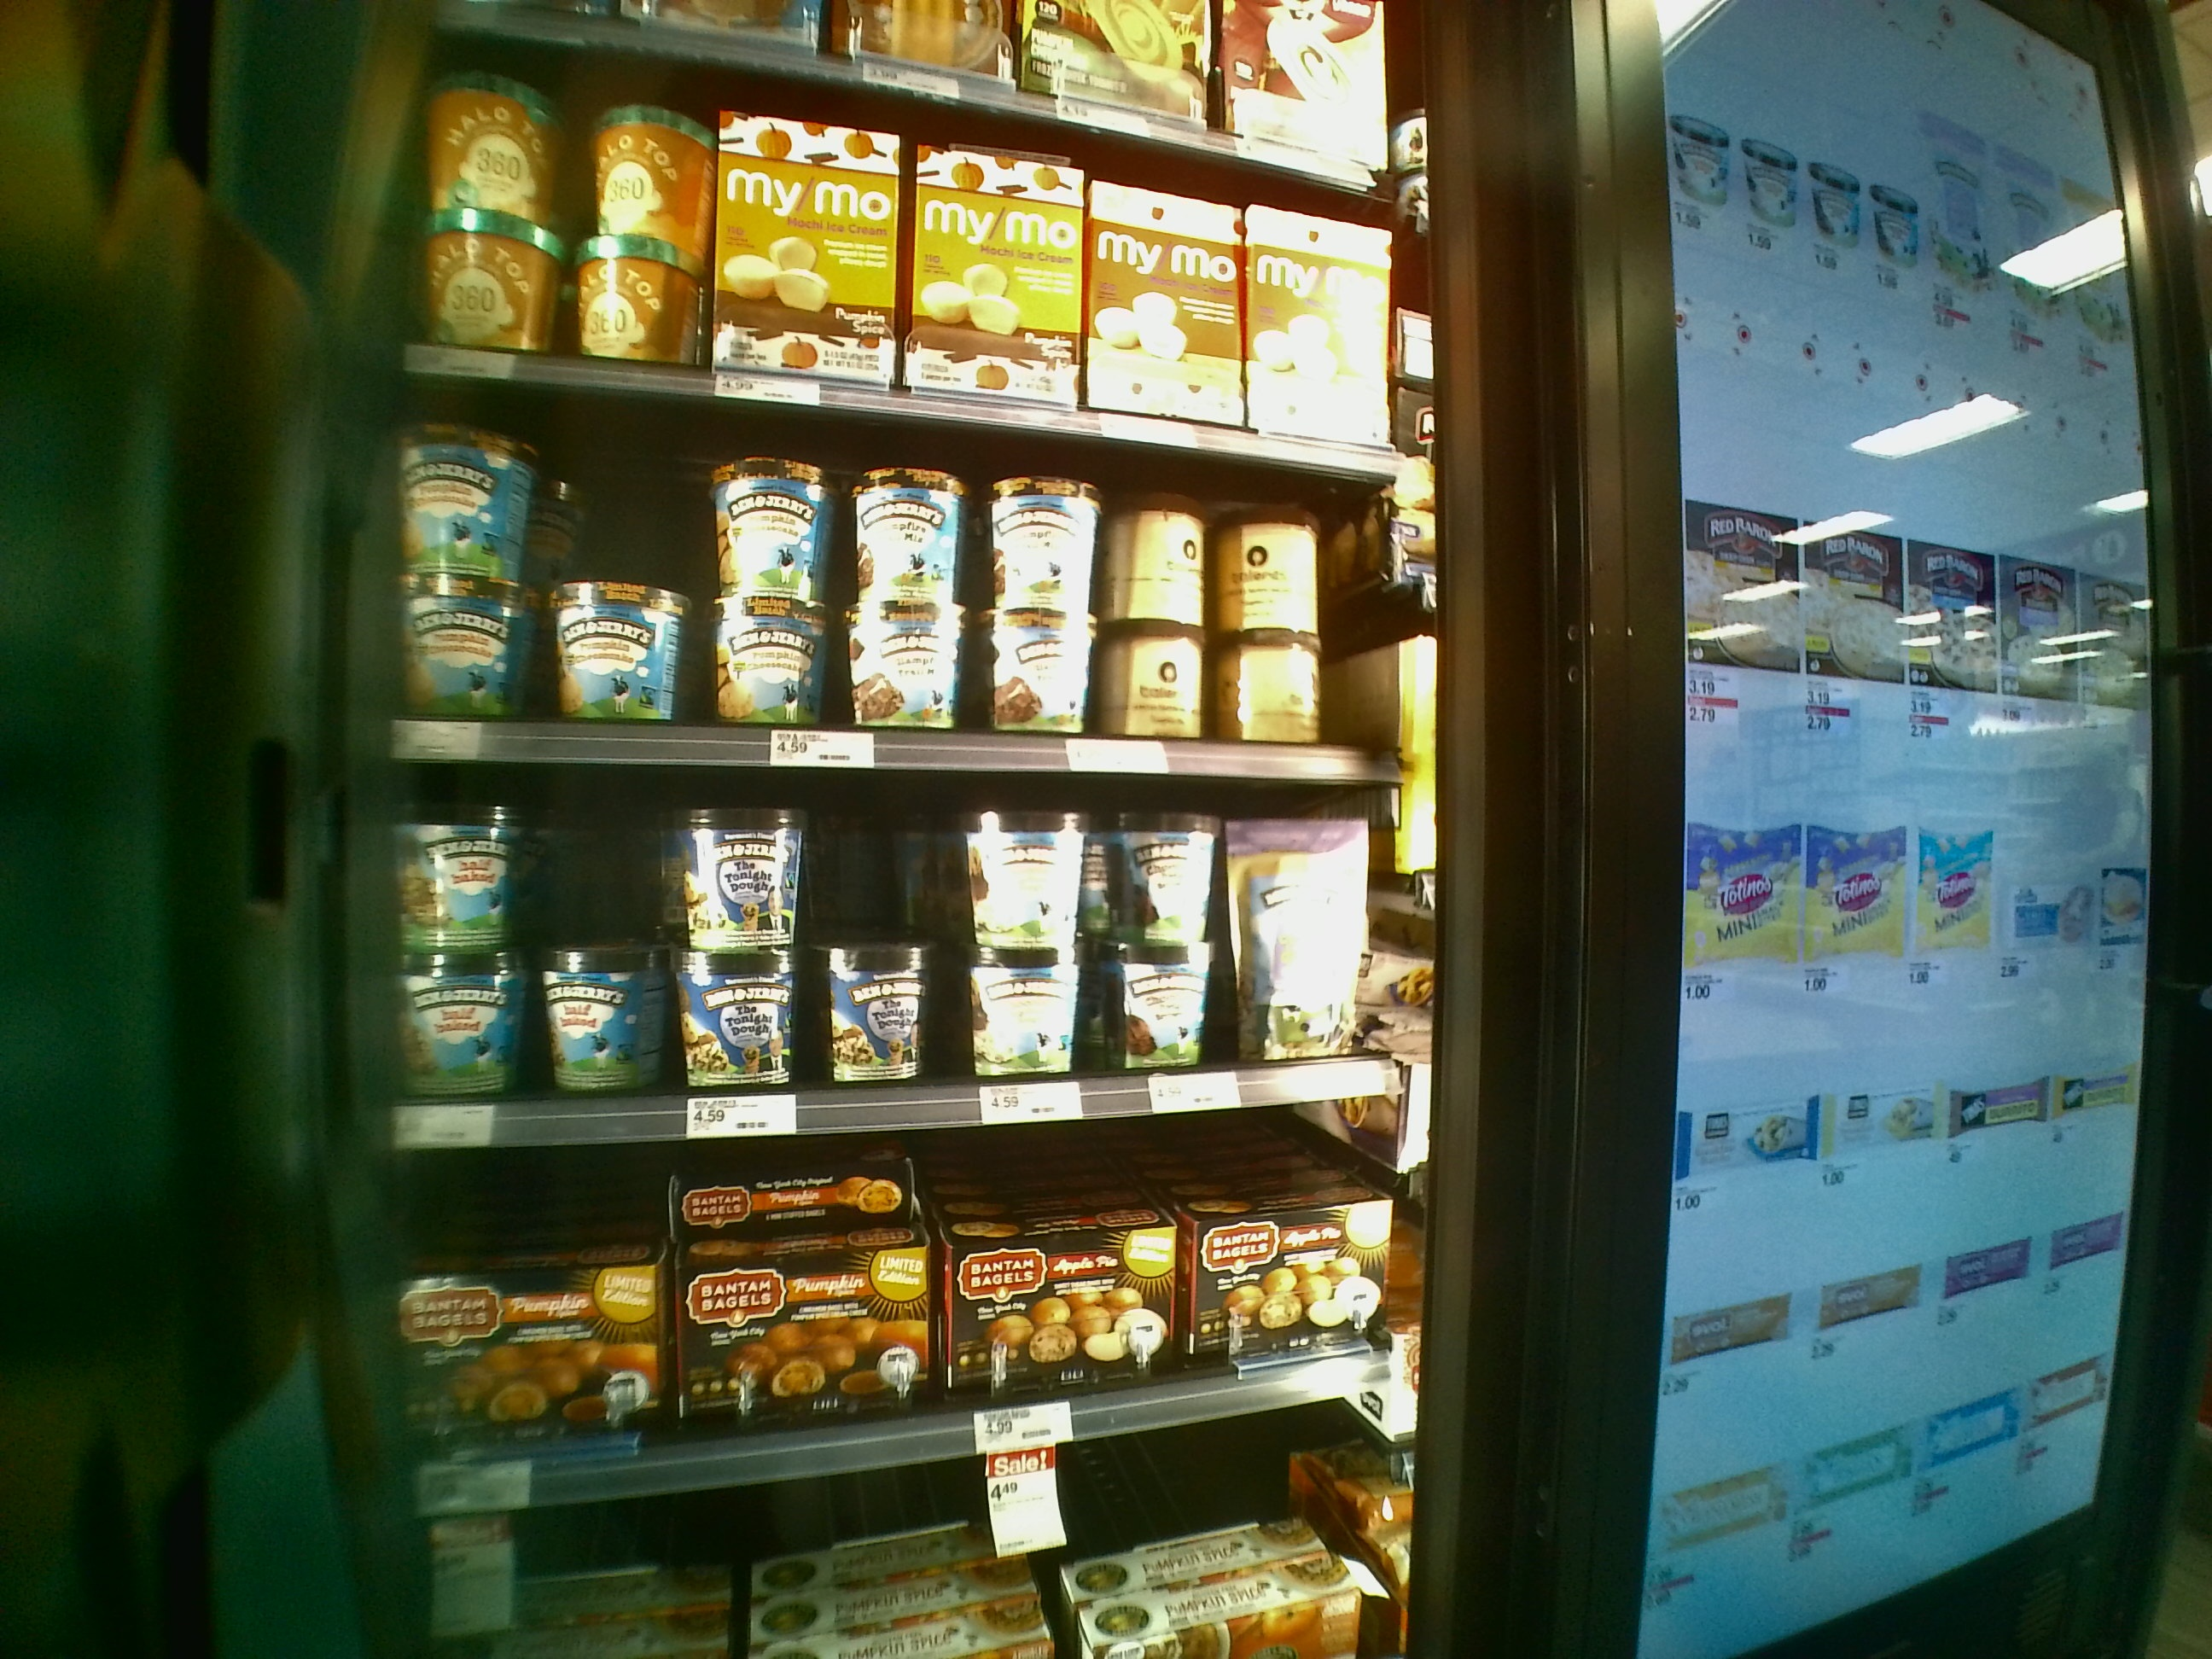shelf: (380, 362, 1390, 793), (387, 765, 1400, 1110), (383, 1133, 1400, 1459)
